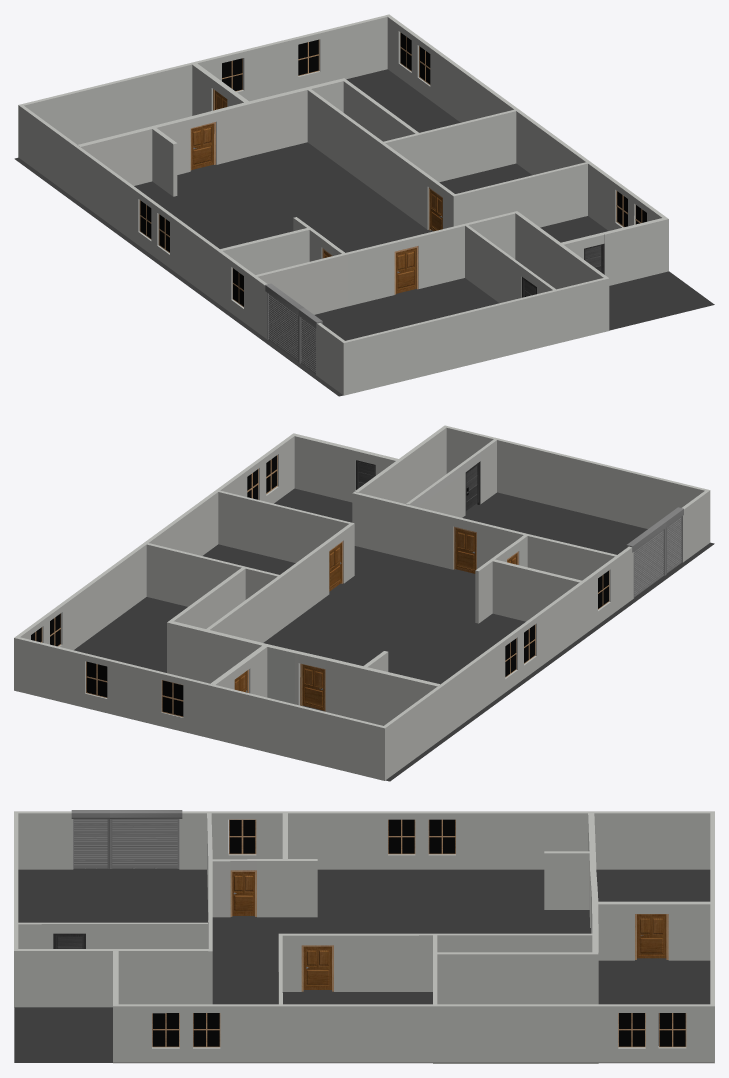
Rendered from denahtexture5.fbx.
3 renders of one model, top to bottom at view 1: azimuth 30°, elevation 25°; view 2: azimuth 150°, elevation 25°; view 3: azimuth 270°, elevation 25°, orthographic. The views are drawn at different scales.
Parts seen in each view (by area): view 1: dinding, Plane, RollingShutter.001, papanpintu1.010, papanpintu1.002, pinggir jendela; view 2: dinding, Plane, RollingShutter.001, papanpintu1.010, papanpintu1.002, jendela7, pinggir jendela; view 3: dinding, Plane, RollingShutter.001, papanpintu1.008, papanpintu1.006, papanpintu1.004, jendela5, jendela1, jendela3, jendela, jendela4, pinggir jendela.001 (+1 smaller).
Part boxes in pixels (x1,y1,x2,y2): dinding: [18, 14, 668, 395]; Plane: [14, 69, 714, 396]; RollingShutter.001: [265, 283, 322, 373]; papanpintu1.010: [191, 123, 213, 169]; papanpintu1.002: [396, 248, 416, 293]; pinggir jendela: [298, 39, 318, 75]; dinding: [14, 425, 710, 780]; Plane: [74, 488, 714, 781]; RollingShutter.001: [626, 507, 683, 598]; papanpintu1.010: [302, 664, 324, 710]; papanpintu1.002: [455, 528, 475, 573]; jendela7: [162, 680, 183, 716]; pinggir jendela: [86, 661, 107, 697]; dinding: [14, 811, 714, 1063]; Plane: [14, 868, 713, 1062]; RollingShutter.001: [71, 810, 182, 868]; papanpintu1.008: [637, 914, 666, 958]; papanpintu1.006: [303, 946, 331, 989]; papanpintu1.004: [232, 872, 254, 915]; jendela5: [388, 819, 414, 853]; jendela1: [429, 819, 455, 853]; jendela3: [153, 1013, 178, 1046]; jendela: [193, 1013, 219, 1046]; jendela4: [619, 1013, 644, 1046]; pinggir jendela.001: [659, 1013, 685, 1046].
Size of the model in its own units: 2350 by 614 by 3524.
Materials: 13 (9 with a texture image).
